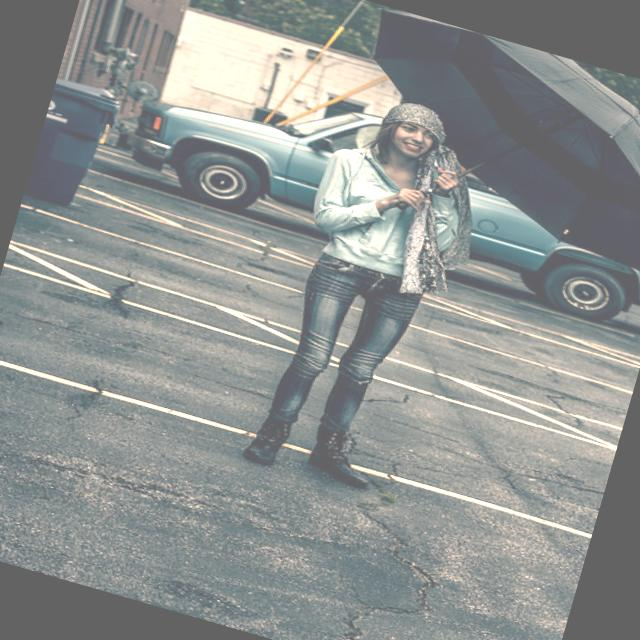Vehicle: (115, 47, 640, 334)
